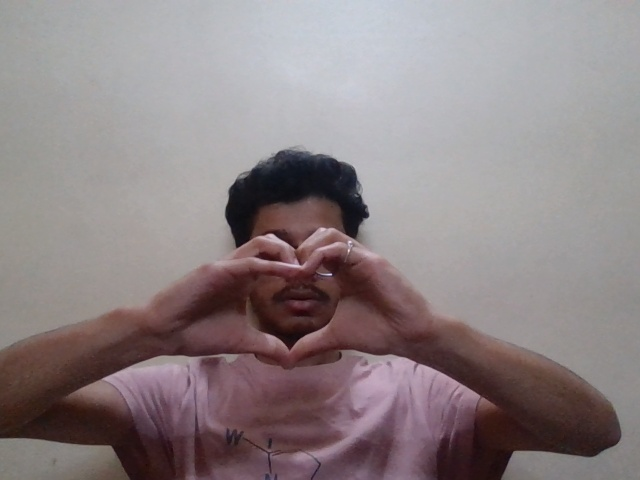silent-voice: (181, 223, 400, 401)
